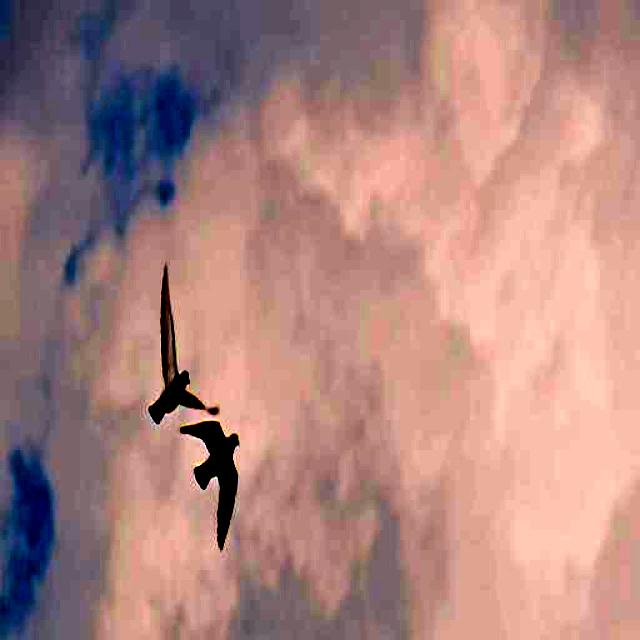airplane: (136, 258, 216, 441), (179, 391, 251, 560)
